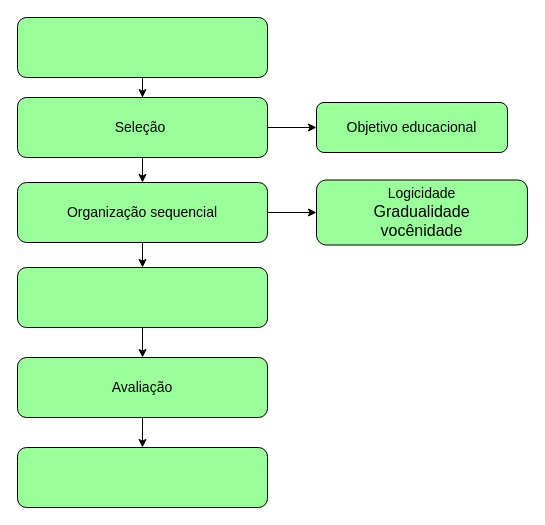
The diagram is 545 pixels wide and 525 high, and some of its shapes have lost their labels. The box of each missing label's shape, as (x1, y1, x2, y2) in pixels:
Criação: (16, 446, 268, 508)
Integração: (16, 266, 268, 328)
Seleção e organização do conteúdo: (16, 16, 268, 78)
